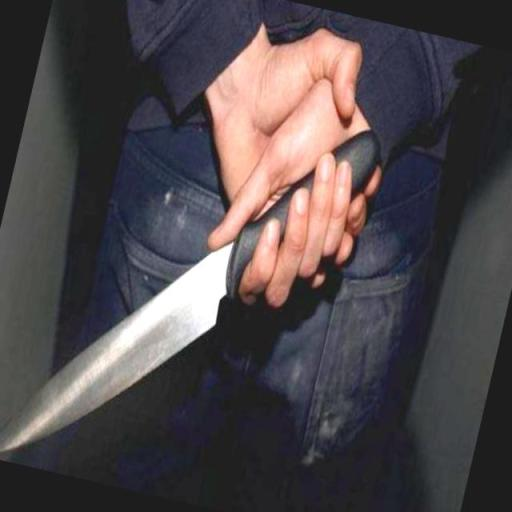knife: (0, 41, 396, 512)
